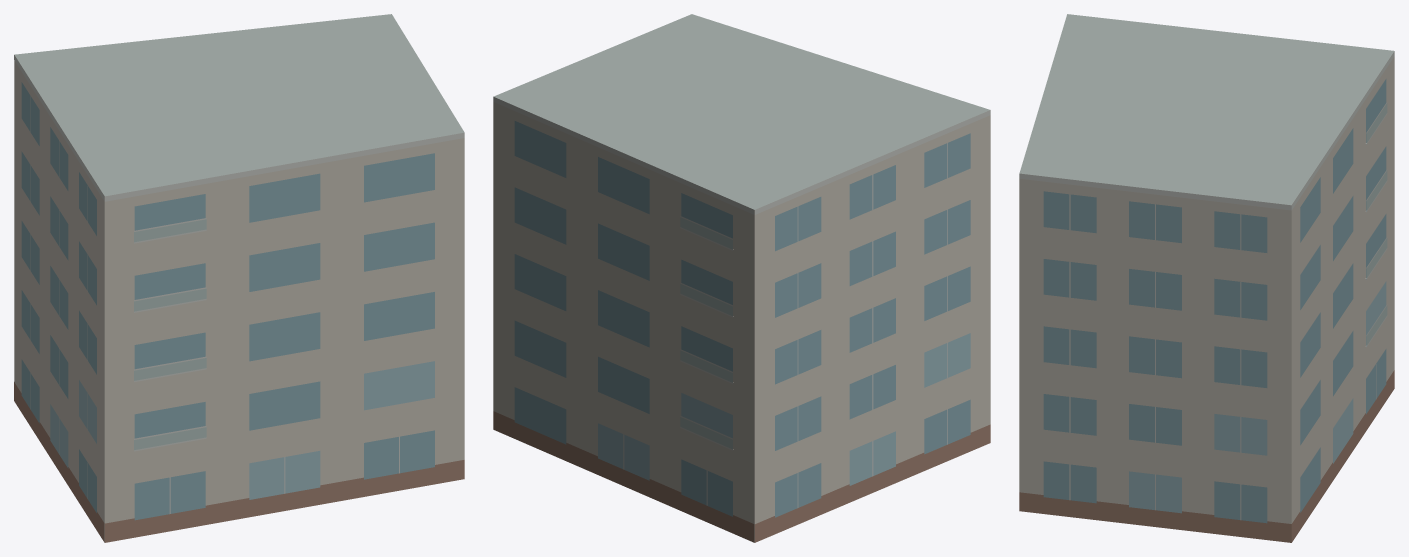
File: survey-upis-33046845.glb
3 views of the same model, side by side, from view 1: azimuth 30°, elevation 25°; view 2: azimuth 150°, elevation 25°; view 3: azimuth 270°, elevation 25° (orthographic). The views are drawn at different scales.
Visible parts, largest first — view 1: survey-upis-33046845.tmp; view 2: survey-upis-33046845.tmp; view 3: survey-upis-33046845.tmp.
Boxes of the visible parts, x1,y1,x2,y2 form: survey-upis-33046845.tmp: [14, 14, 464, 542]; survey-upis-33046845.tmp: [493, 14, 990, 542]; survey-upis-33046845.tmp: [1019, 14, 1394, 542].
Size of the model in its own units: 19.06 by 15.68 by 15.8.
